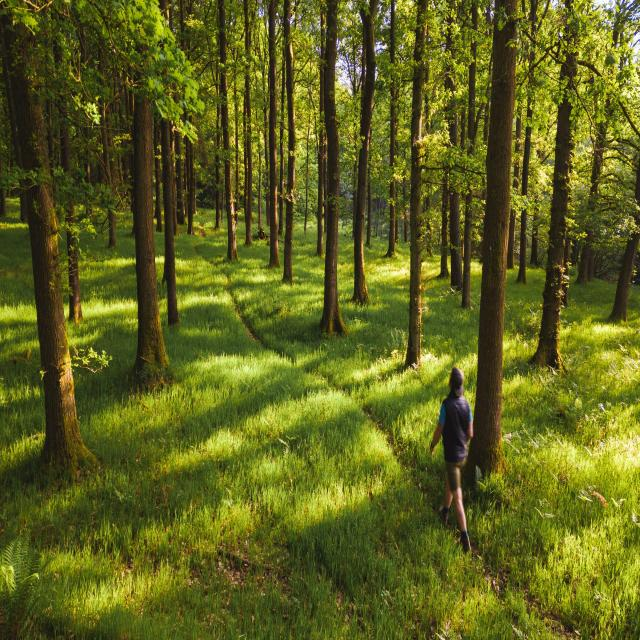Forest: (0, 2, 640, 640)
Militant: (427, 353, 499, 544)
